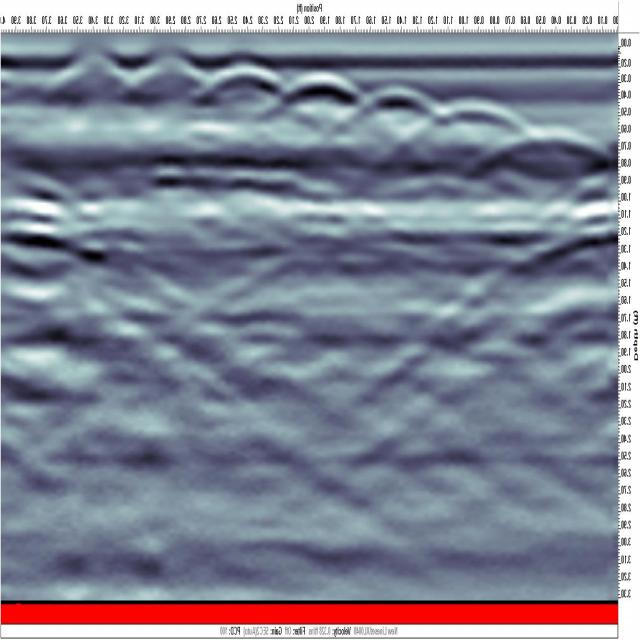hyperbola: (480, 114, 610, 193), (422, 82, 527, 151), (348, 68, 441, 139), (274, 61, 368, 124), (200, 55, 290, 116)
